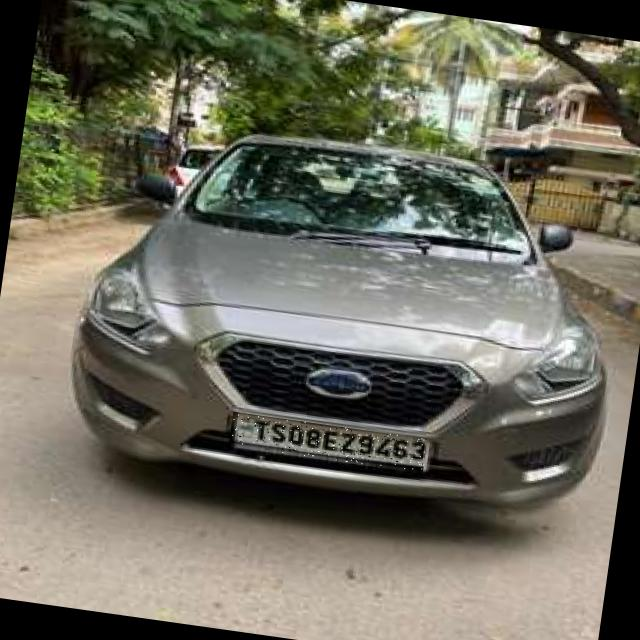Plate: (230, 414, 429, 475)
